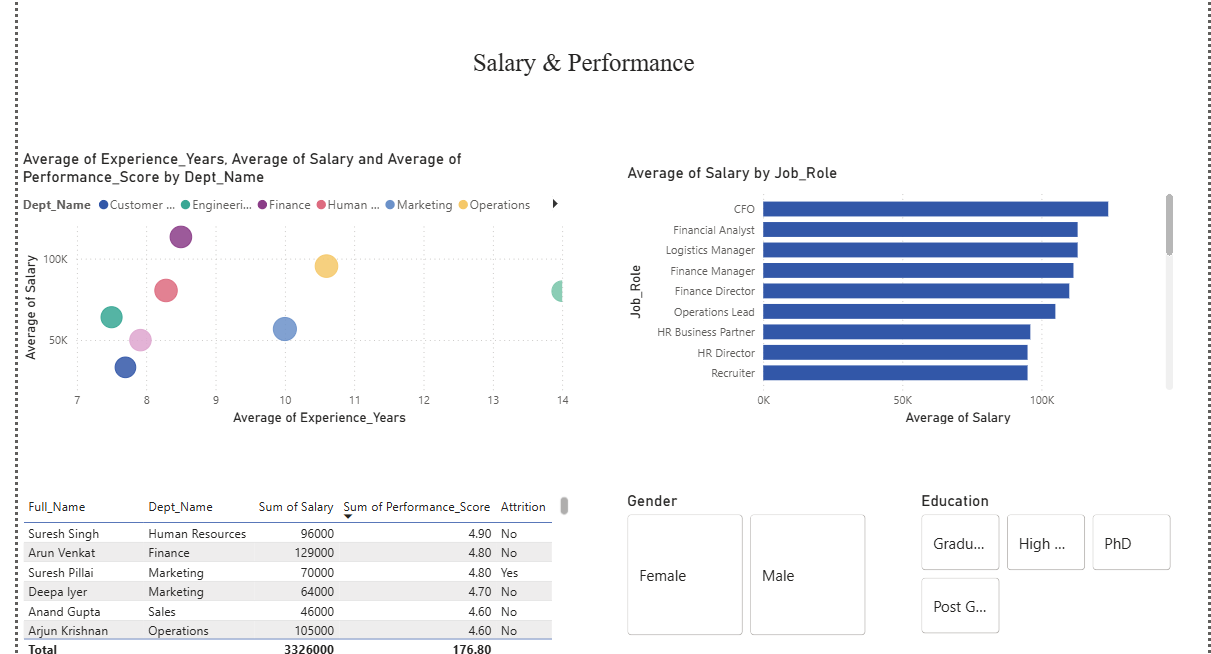

The page's visual inventory and layout, read from the dashboard file:
{"tool":"powerbi","page":{"name":"Salary & Performance","canvas":[1280,720],"ordinal":1},"visuals":[{"type":"textbox","box":[484.1,55.6,331.7,84.1],"z":0},{"type":"scatterChart","fields":{"X":["Avg(Raw Data.Experience_Years)"],"Y":["Avg(Raw Data.Salary)"],"Series":["Raw Data.Dept_Name"],"Size":["Avg(Raw Data.Performance_Score)"]},"box":[0,169.8,596.8,300],"z":1000},{"type":"clusteredBarChart","fields":{"Category":["Raw Data.Job_Role"],"Y":["Avg(Raw Data.Salary)"]},"box":[650.8,184.1,596.8,285.7],"z":2000},{"type":"tableEx","fields":{"Values":["Raw Data.Full_Name","Raw Data.Dept_Name","Sum(Raw Data.Salary)","Sum(Raw Data.Performance_Score)","Raw Data.Attrition"]},"box":[0,536.5,596.8,184.1],"z":3000},{"type":"advancedSlicerVisual","fields":{"Values":["Raw Data.Gender"]},"box":[650,536.5,267.3,159.6],"z":3001},{"type":"advancedSlicerVisual","fields":{"Values":["Raw Data.Education"]},"box":[965.4,536.5,280.8,157.7],"z":3002}]}

Visuals, with their boxes on the page's 1280x720 design canvas (x1, y1, x2, y2). These are canvas units, not pixel positions in the 1211x654 screenshot, which may show the page scaled, cropped or inside an application window:
textbox: <bbox>484, 56, 816, 140</bbox>
scatterChart - Avg(Raw Data.Experience_Years) x Avg(Raw Data.Salary): <bbox>0, 170, 597, 470</bbox>
clusteredBarChart - Raw Data.Job_Role x Avg(Raw Data.Salary): <bbox>651, 184, 1248, 470</bbox>
tableEx - Raw Data.Full_Name x Raw Data.Dept_Name: <bbox>0, 536, 597, 721</bbox>
advancedSlicerVisual - Raw Data.Gender: <bbox>650, 536, 917, 696</bbox>
advancedSlicerVisual - Raw Data.Education: <bbox>965, 536, 1246, 694</bbox>
